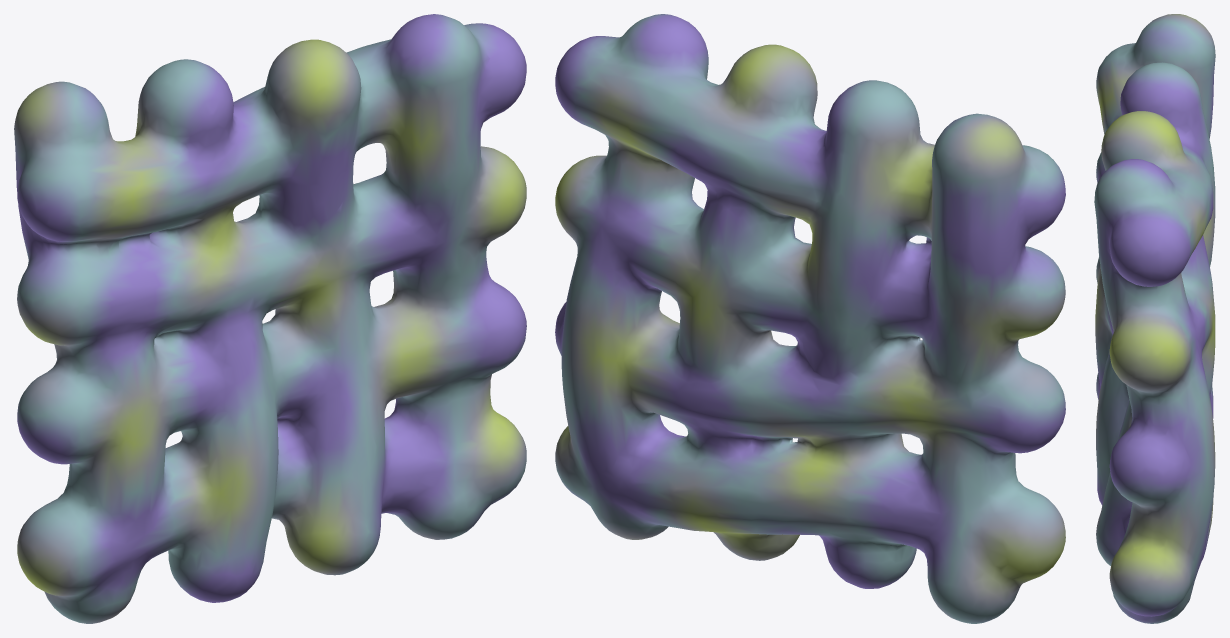
The model's file is iridescent-lattice.glb.
The picture shows the model from 3 angles, left to right: view 1: azimuth 30°, elevation 25°; view 2: azimuth 150°, elevation 25°; view 3: azimuth 270°, elevation 25°; orthographic projection. The views are drawn at different scales.
Visible parts, largest first — view 1: iridescent-lattice; view 2: iridescent-lattice; view 3: iridescent-lattice.
Boxes of the visible parts, left/top/right/bottom form: iridescent-lattice: left=14, top=14, right=526, bottom=623; iridescent-lattice: left=555, top=14, right=1065, bottom=623; iridescent-lattice: left=1094, top=14, right=1215, bottom=623.
Size of the model in its own units: 2 by 2 by 0.488.
